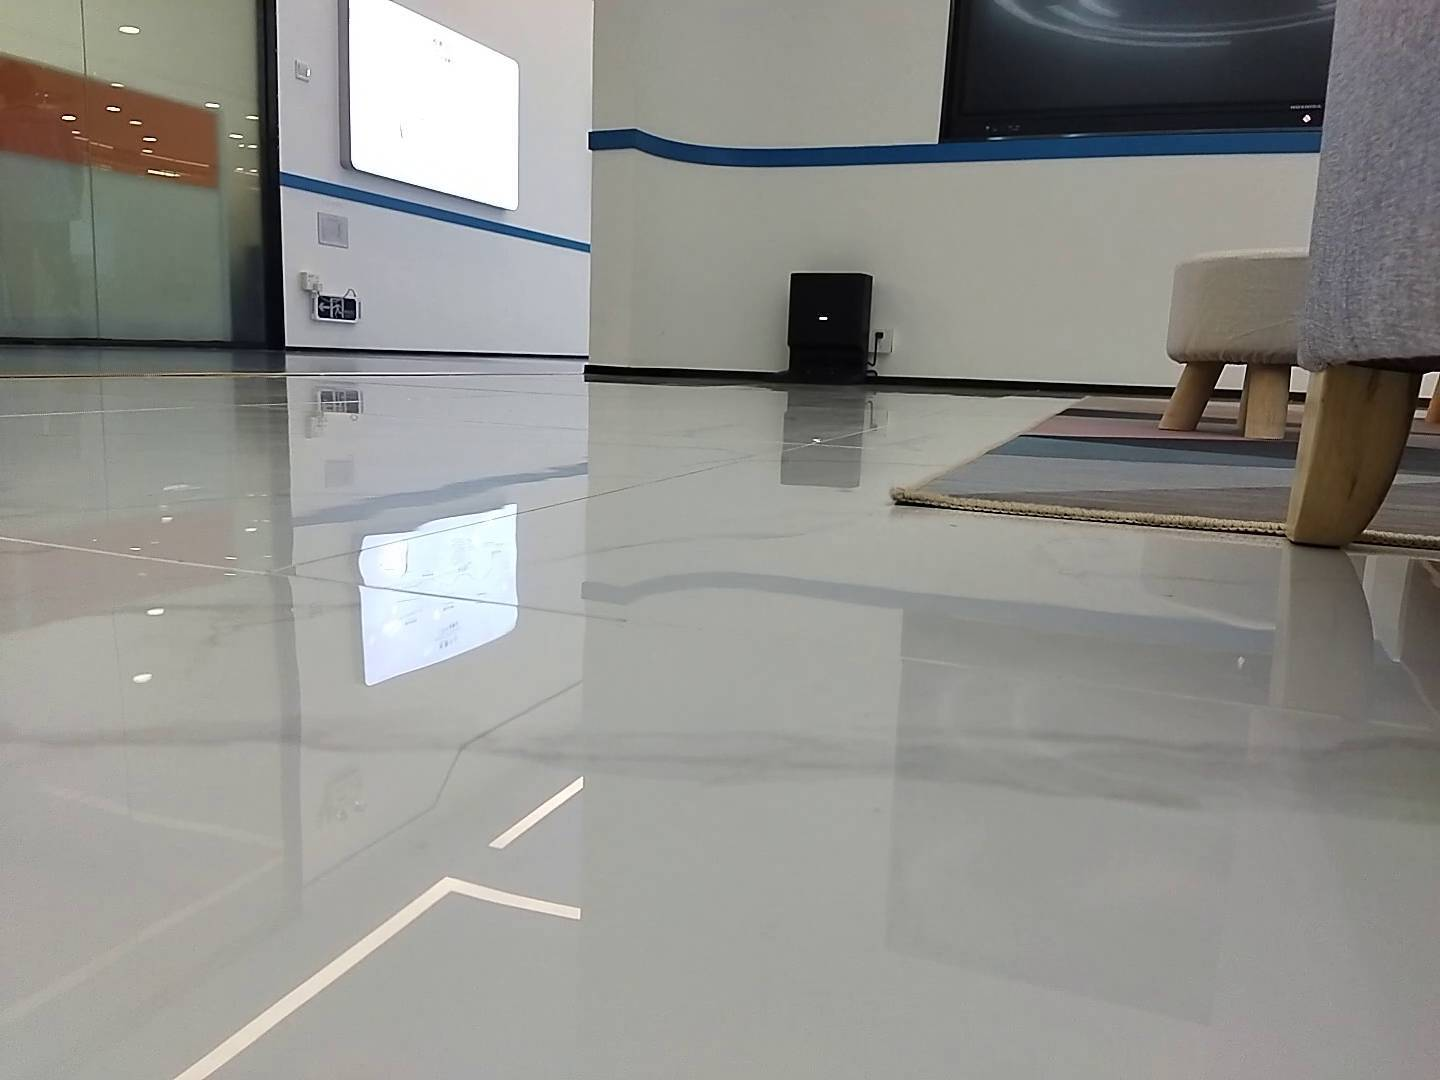dust collecting barrel: (764, 272, 879, 389)
